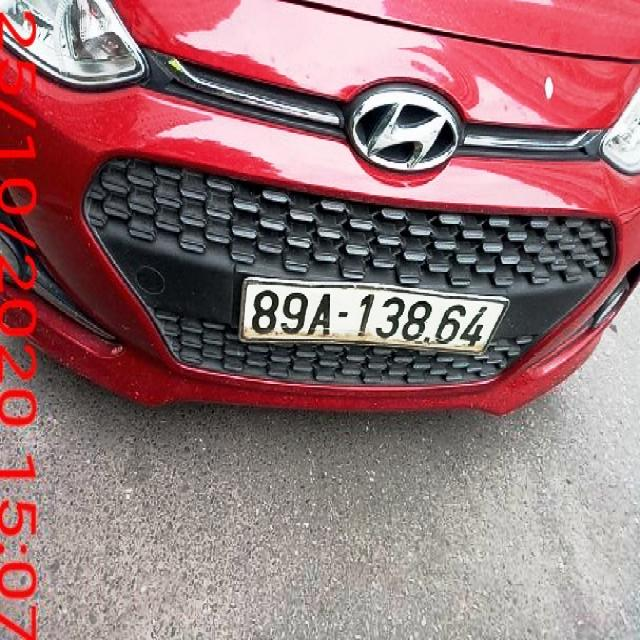license_plate: (243, 281, 510, 357)
